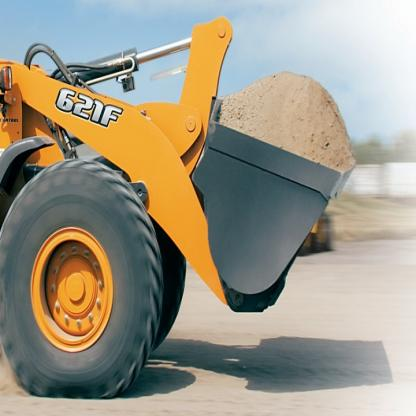bull_dozer/loader/grader: (5, 29, 346, 392)
